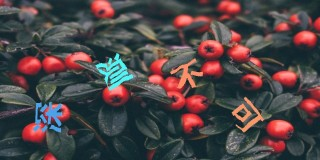不: (169, 57, 204, 88)
可: (231, 96, 264, 133)
测: (96, 52, 133, 90)
深: (33, 100, 63, 133)
